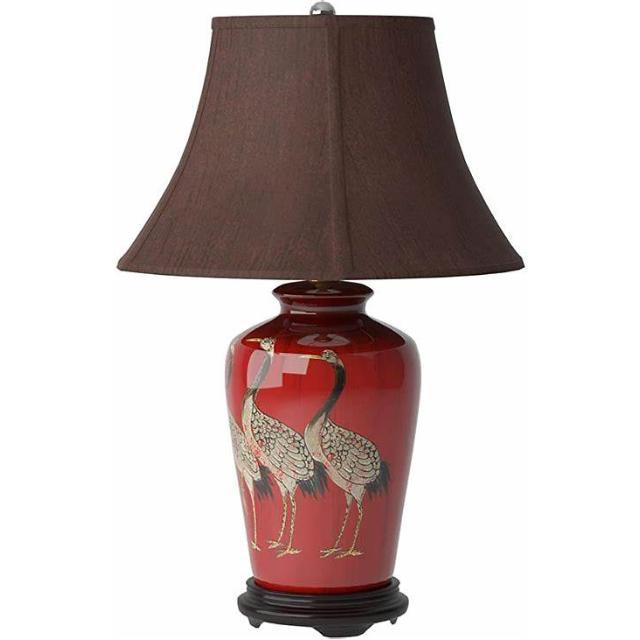lamp: (116, 14, 524, 640)
